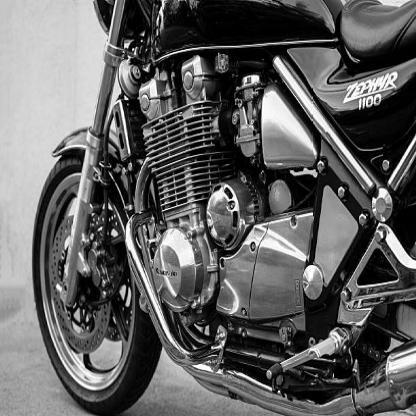Motorcycle: (23, 1, 416, 415)
